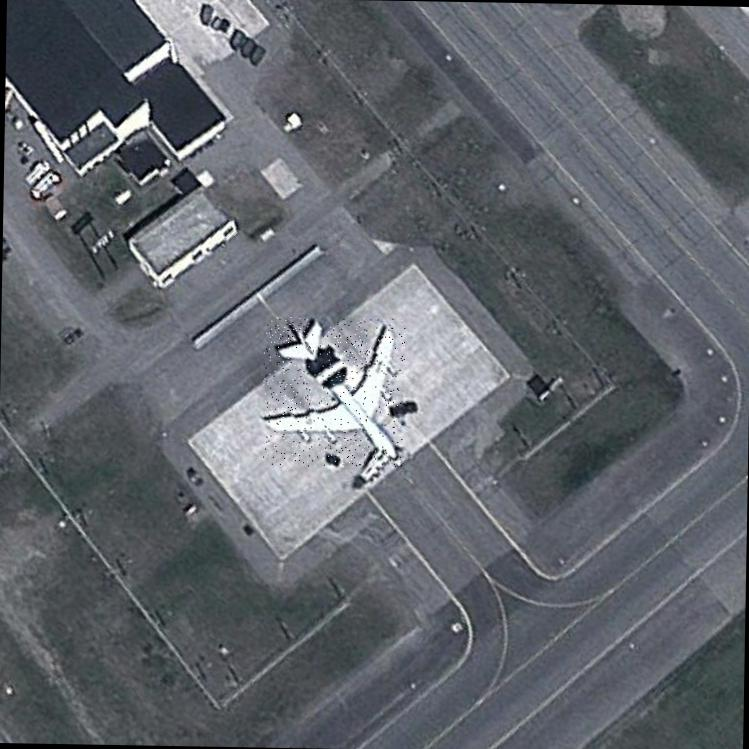A7: (261, 316, 405, 467)
